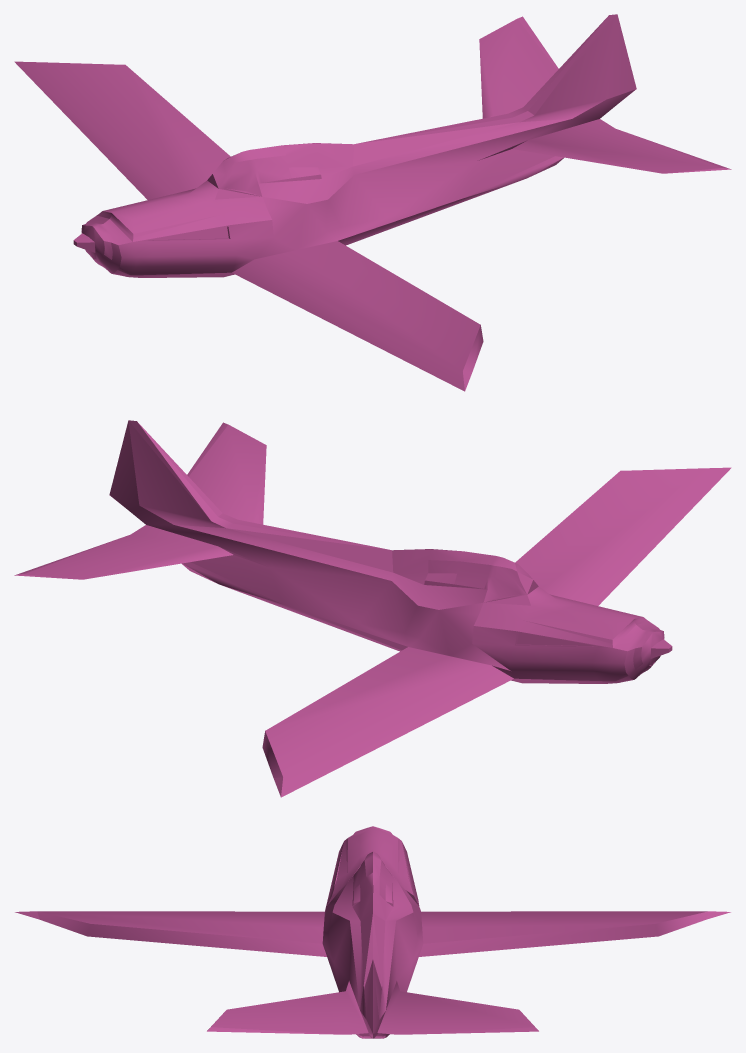
3 renders of one model, top to bottom at view 1: azimuth 30°, elevation 25°; view 2: azimuth 150°, elevation 25°; view 3: azimuth 270°, elevation 25°, orthographic. The views are drawn at different scales.
Visible parts, largest first — view 1: split_parent_0; view 2: split_parent_0; view 3: split_parent_0.
Part boxes in pixels (bbox=[...]): split_parent_0: bbox=[14, 14, 731, 391]; split_parent_0: bbox=[14, 420, 731, 797]; split_parent_0: bbox=[15, 826, 730, 1038].
Size of the model in its own units: 0.7186 by 0.1918 by 1.
